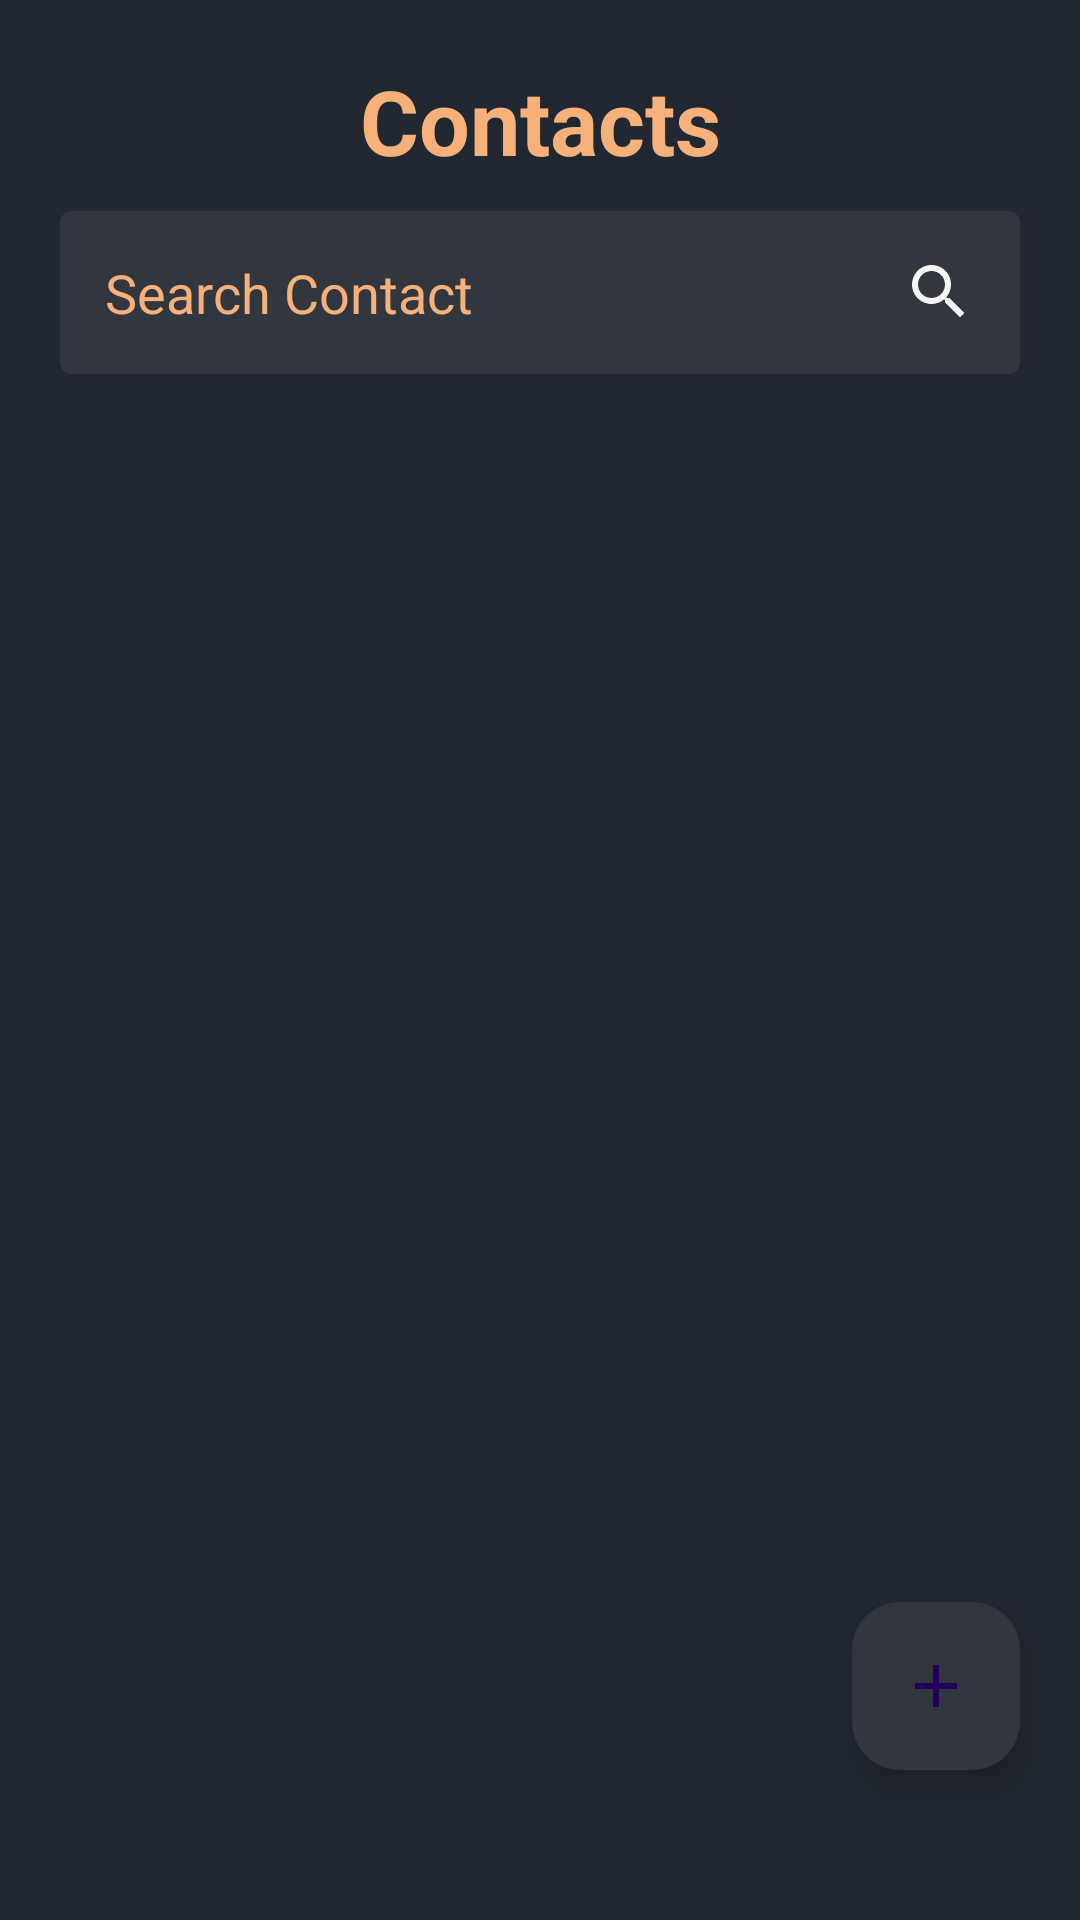

Named icons in this screenshot (1080 × 1920) and their centers, (x=x, y=y):
add: (x=936, y=1686)
